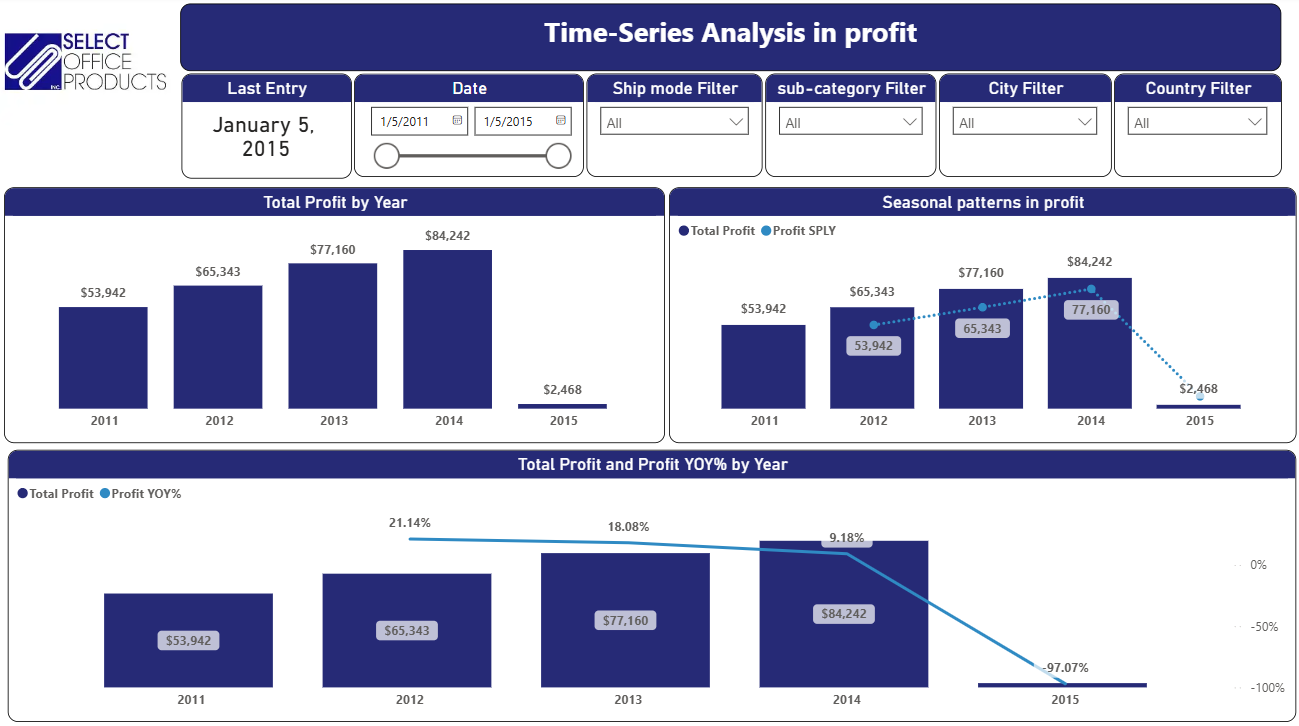

What the dashboard file says about the page in this screenshot:
{"tool":"powerbi","page":{"name":"Time-Series Analysis in profit","canvas":[1280,720],"ordinal":2},"visuals":[{"type":"textbox","box":[177.9,7.4,1081,66.3],"z":0},{"type":"image","box":[0,4.9,169.3,122.7],"z":1000},{"type":"slicer","title":"Country Filter","fields":{"Values":["Country.Country"]},"box":[1094.5,76.1,164.4,101.8],"z":2000},{"type":"slicer","title":"City Filter","fields":{"Values":["City.City"]},"box":[922.7,76.1,169.3,101.8],"z":3000},{"type":"slicer","title":"sub-category Filter","fields":{"Values":["Sub-Category.Sub-Category"]},"box":[752.2,76.1,168.1,101.8],"z":4000},{"type":"slicer","title":"Ship mode Filter","fields":{"Values":["Ship Mode.Ship Mode"]},"box":[576.7,76.1,173,101.8],"z":5000},{"type":"slicer","title":"Date","fields":{"Values":["Dim_date.Date"]},"box":[348.5,76.1,225.8,101.8],"z":6000},{"type":"card","title":"Last Entry","fields":{"Values":["Max(Dim_date.Date)"]},"box":[179.1,76.1,166.9,103.1],"z":7000},{"type":"lineClusteredColumnComboChart","title":"Seasonal patterns in profit","fields":{"Category":["Dim_date.Date.Variation.Date Hierarchy.Year","Dim_date.Date.Variation.Date Hierarchy.Quarter","Dim_date.Date.Variation.Date Hierarchy.Month","Dim_date.Date.Variation.Date Hierarchy.Day"],"Y2":["_Measures.Profit SPLY"],"Y":["_Measures.Total Profit"]},"box":[657.7,187.7,616,251.5],"z":8000},{"type":"lineClusteredColumnComboChart","fields":{"Category":["Dim_date.Date.Variation.Date Hierarchy.Year","Dim_date.Date.Variation.Date Hierarchy.Quarter","Dim_date.Date.Variation.Date Hierarchy.Month","Dim_date.Date.Variation.Date Hierarchy.Day"],"Y":["_Measures.Total Profit"],"Y2":["_Measures.Profit YOY%"]},"box":[8.6,445.4,1265,267.5],"z":9000},{"type":"columnChart","fields":{"Category":["Dim_date.Date.Variation.Date Hierarchy.Year","Dim_date.Date.Variation.Date Hierarchy.Quarter","Dim_date.Date.Variation.Date Hierarchy.Month","Dim_date.Date.Variation.Date Hierarchy.Day"],"Y":["_Measures.Total Profit"]},"box":[4.9,187.7,649.1,251.5],"z":10000}]}

Visuals, with their boxes in screenshot pixels (x1, y1, x2, y2), scaled from the page's 1280x720 canvas onto the 1299x726 screenshot:
textbox: crop(181, 7, 1278, 74)
image: crop(0, 5, 172, 129)
"Country Filter" slicer: crop(1111, 77, 1278, 179)
"City Filter" slicer: crop(936, 77, 1108, 179)
"sub-category Filter" slicer: crop(763, 77, 934, 179)
"Ship mode Filter" slicer: crop(585, 77, 761, 179)
"Date" slicer: crop(354, 77, 583, 179)
"Last Entry" card: crop(182, 77, 351, 181)
"Seasonal patterns in profit" lineClusteredColumnComboChart: crop(667, 189, 1293, 443)
lineClusteredColumnComboChart - Dim_date.Date.Variation.Date Hierarchy.Year x Dim_date.Date.Variation.Date Hierarchy.Quarter: crop(9, 449, 1293, 719)
columnChart - Dim_date.Date.Variation.Date Hierarchy.Year x Dim_date.Date.Variation.Date Hierarchy.Quarter: crop(5, 189, 664, 443)
